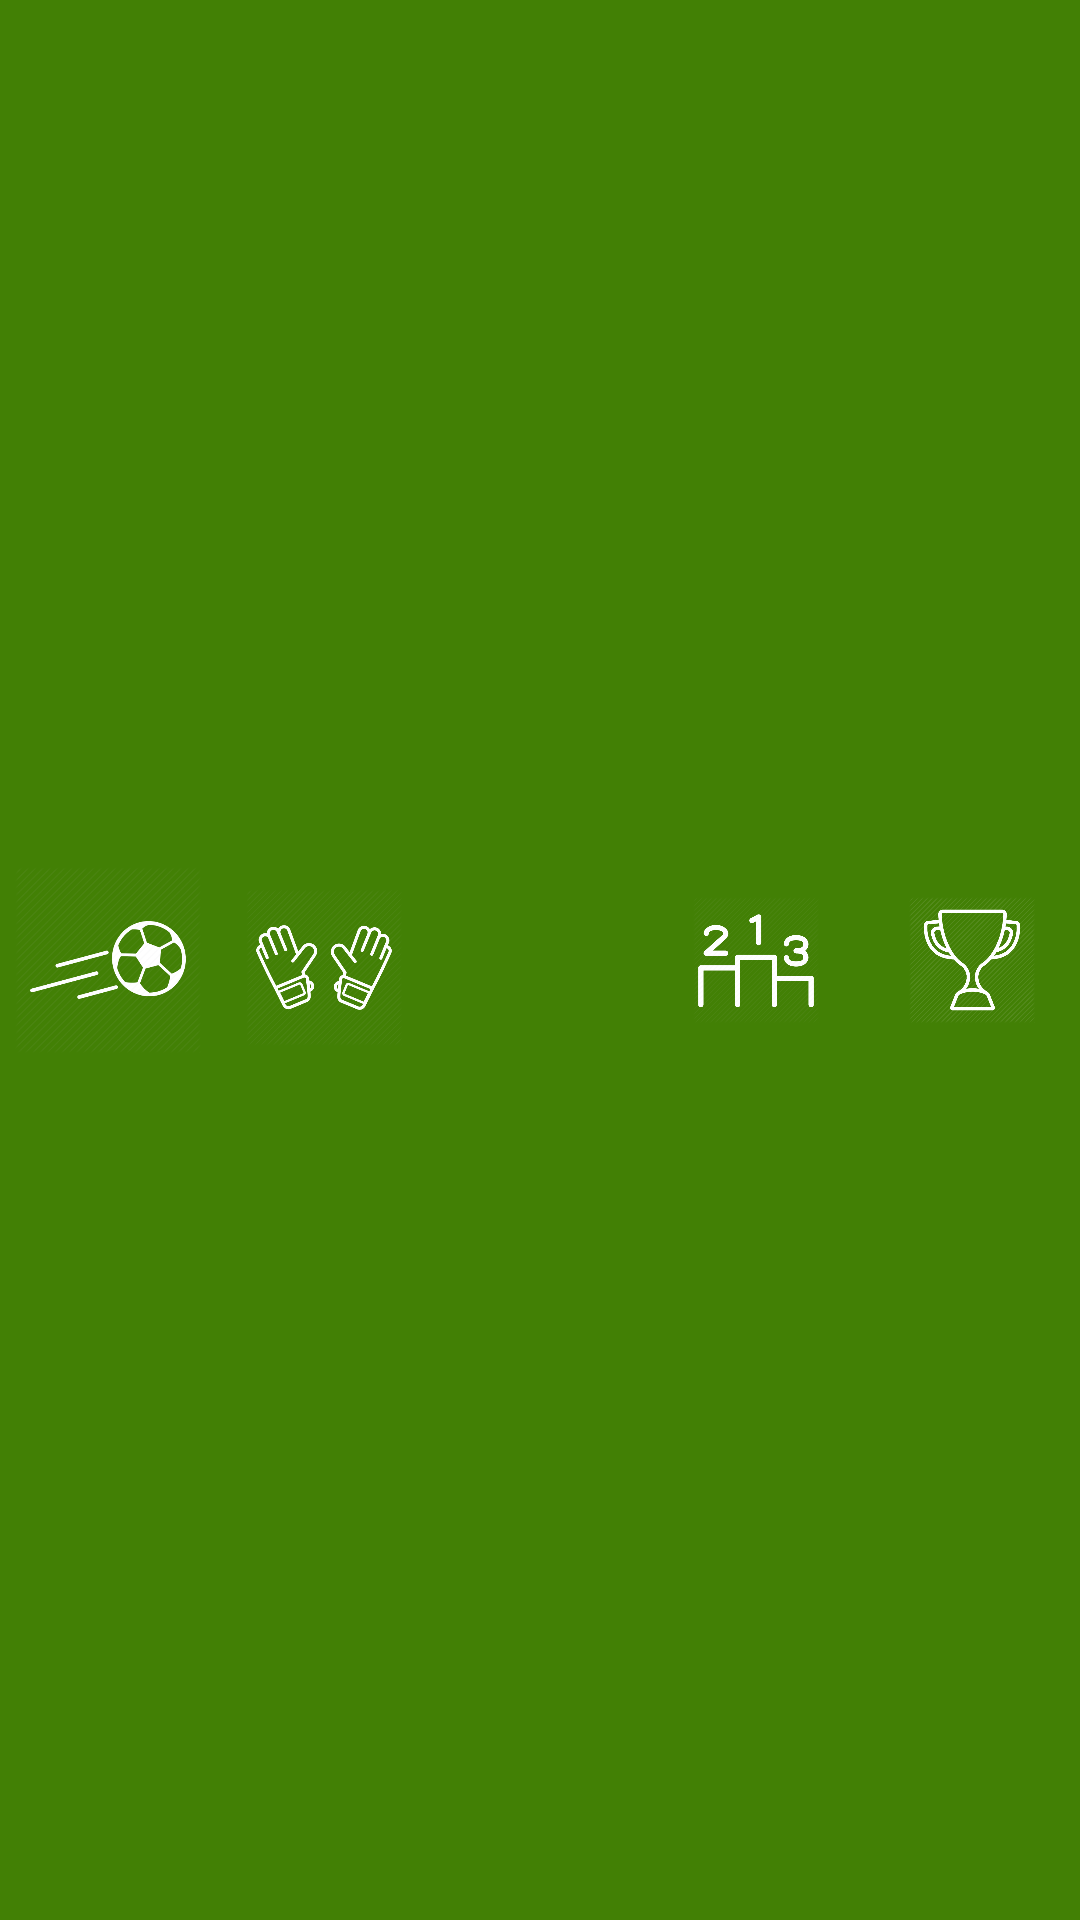

Named icons in this screenshot (1080px x 1920px) and their bounding boxes, bbox(x1, y1, x2, y2):
defense: bbox(256, 925, 392, 1010)
hall of fame: bbox(911, 900, 1033, 1021)
rank: bbox(698, 914, 814, 1007)
scored: bbox(30, 921, 186, 999)
